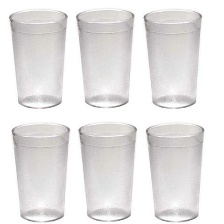glass: (140, 118, 212, 224), (137, 0, 203, 112), (75, 116, 143, 224), (9, 112, 74, 224), (71, 6, 135, 106), (8, 5, 68, 110)
